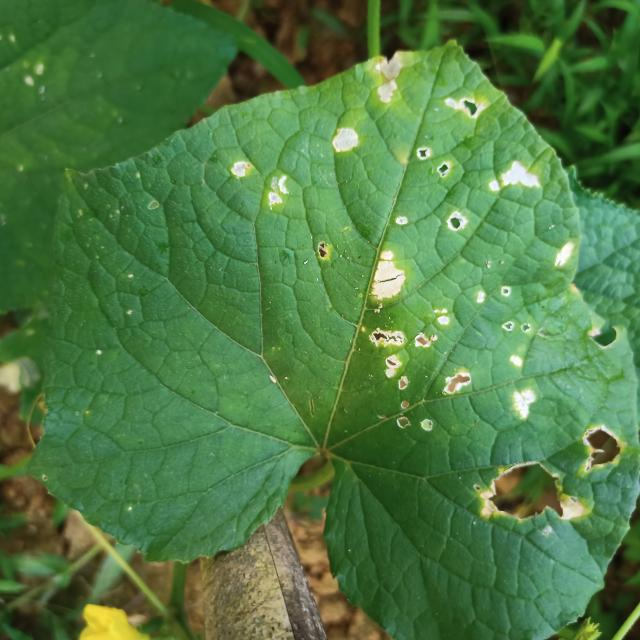disease_cucumber: (366, 306, 478, 439), (471, 458, 587, 532), (229, 158, 296, 213), (580, 421, 628, 476), (483, 159, 542, 203), (368, 248, 410, 306), (439, 91, 492, 125), (544, 232, 580, 279), (415, 144, 455, 184), (375, 58, 406, 108), (509, 386, 539, 433), (325, 122, 360, 160), (442, 209, 470, 237)
